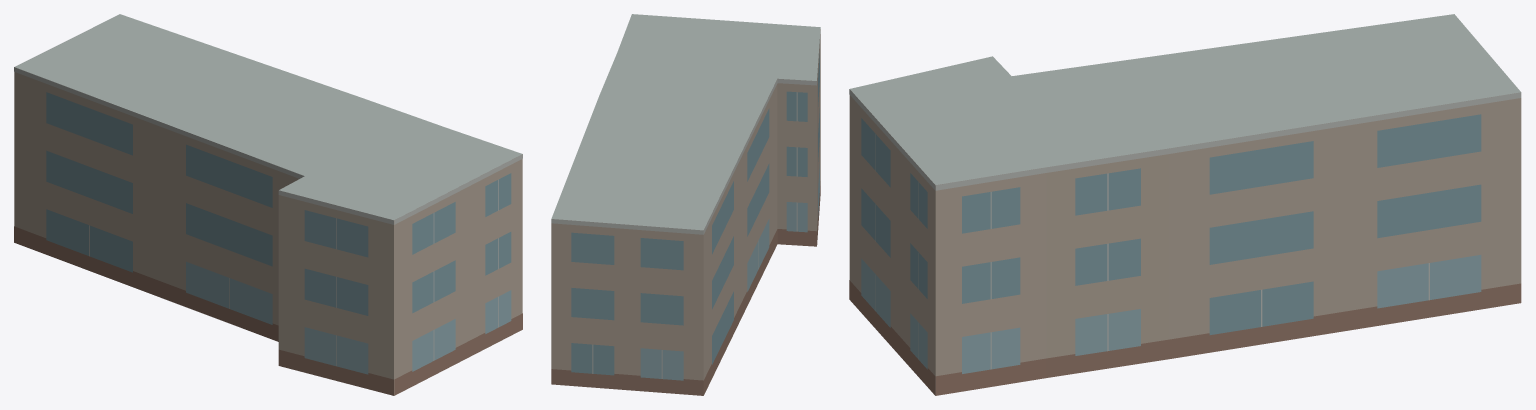
Rendered from survey-upis-32470596.glb.
3 renders of one model, left to right at view 1: azimuth 30°, elevation 25°; view 2: azimuth 150°, elevation 25°; view 3: azimuth 270°, elevation 25°, orthographic. The views are drawn at different scales.
Parts seen in each view (by area): view 1: survey-upis-32470596.tmp; view 2: survey-upis-32470596.tmp; view 3: survey-upis-32470596.tmp.
Boxes of the visible parts, left/top/right/bottom form: survey-upis-32470596.tmp: left=14, top=14, right=522, bottom=395; survey-upis-32470596.tmp: left=551, top=14, right=820, bottom=395; survey-upis-32470596.tmp: left=849, top=14, right=1521, bottom=395.
Bounding box in the file's own units: 15.95 × 9.15 × 26.45.
